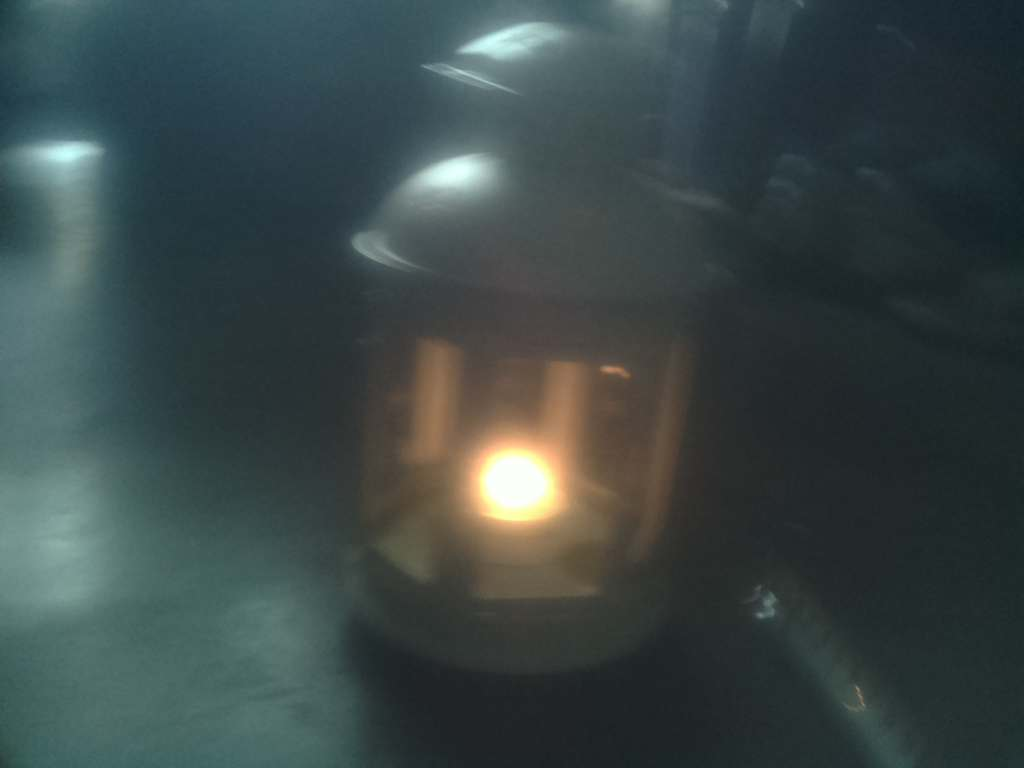fire: (462, 436, 583, 547)
